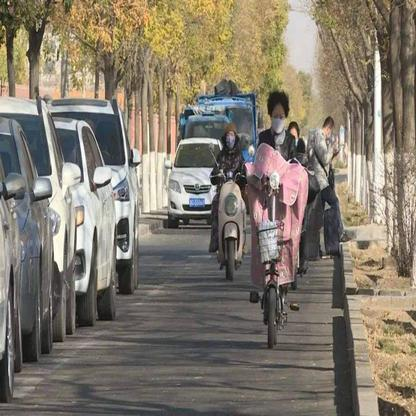target: (246, 89, 311, 349), (207, 122, 247, 280)
